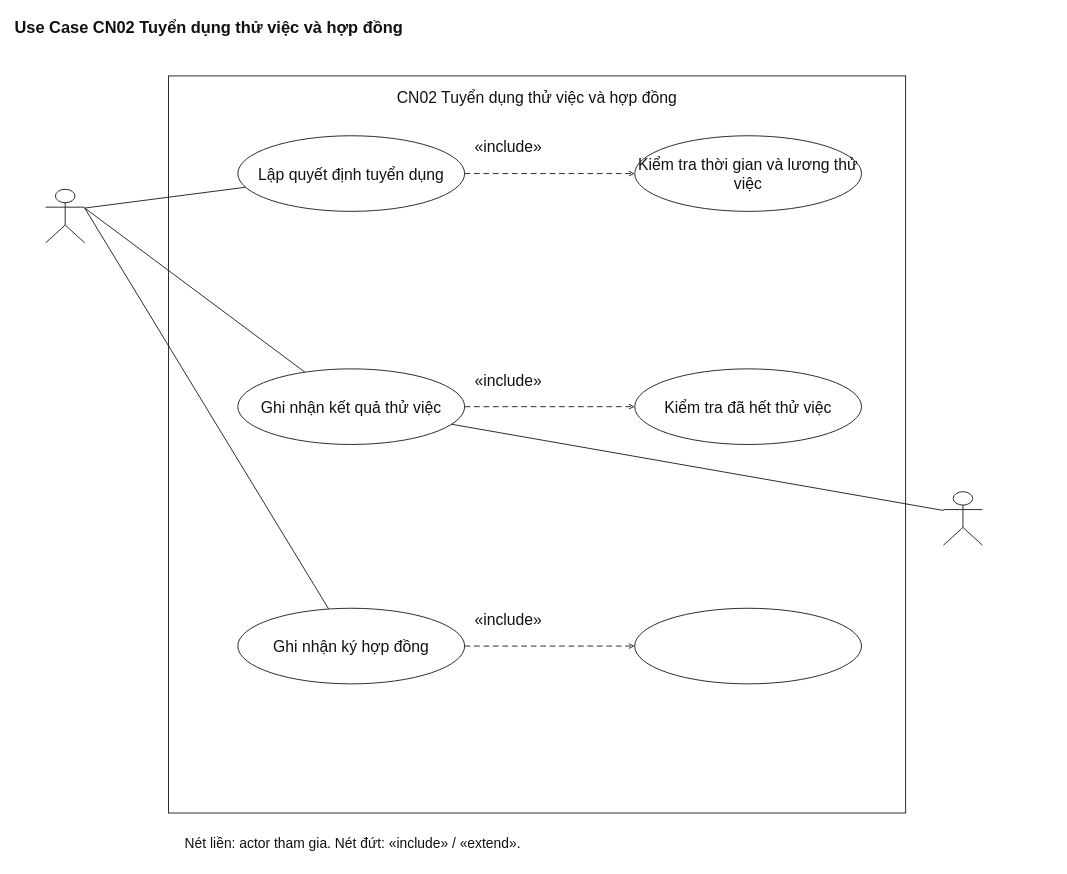
Image size: 1067x874. Some labels were removed from this diagram. Each missing label, with the centre of its shape:
Kiểm tra đạt thử việc và không chồng HĐ: (x=748, y=646)
Nhân sự: (x=65, y=216)
Trưởng phòng: (x=963, y=518)
